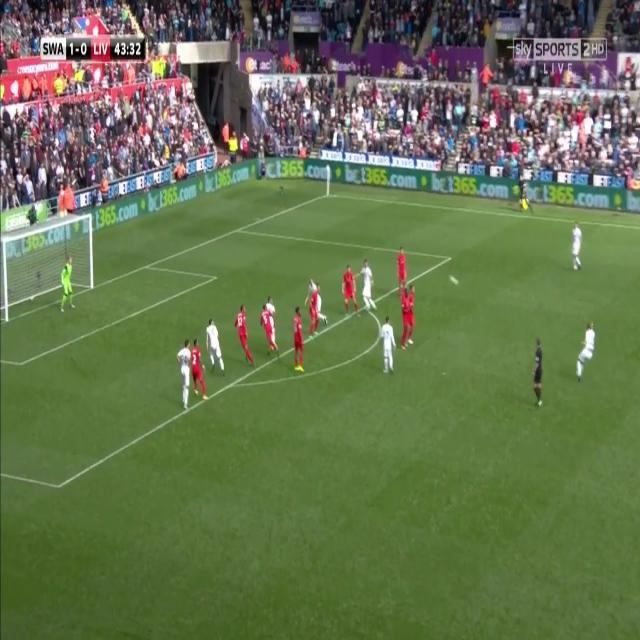Ball: (447, 272, 460, 290)
Goalkeeper: (55, 251, 76, 319)
Player: (204, 314, 229, 381), (233, 301, 258, 368), (289, 304, 308, 379), (359, 258, 382, 318), (174, 338, 192, 414), (575, 316, 595, 384), (340, 262, 363, 321), (378, 314, 398, 376), (258, 300, 278, 360), (404, 281, 420, 354), (192, 335, 209, 403), (570, 221, 585, 275), (394, 249, 408, 300), (310, 280, 320, 336), (267, 294, 279, 340)
Referee: (529, 334, 547, 413), (516, 171, 536, 225)
